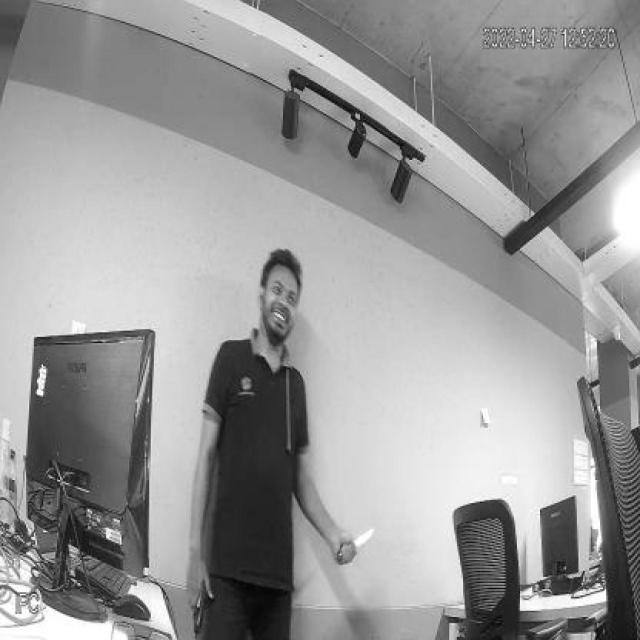weapon: (184, 566, 216, 636)
